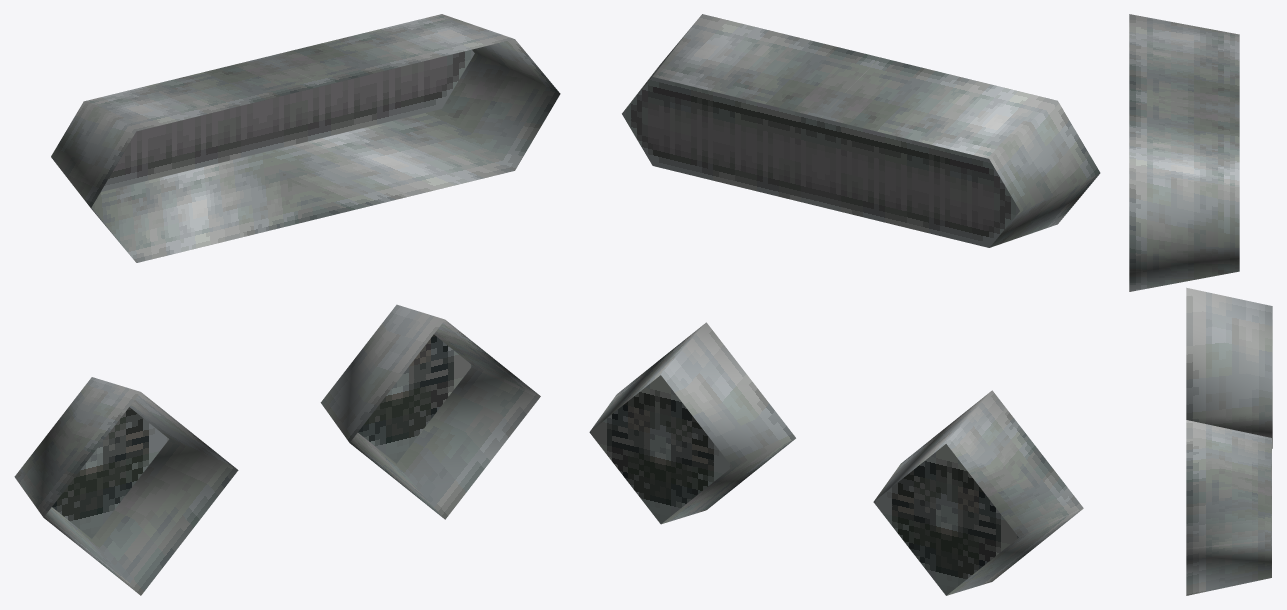
The model's file is kse_firespray_engine_s01_l3.fbx.
3 renders of one model, left to right at view 1: azimuth 30°, elevation 25°; view 2: azimuth 150°, elevation 25°; view 3: azimuth 270°, elevation 25°, orthographic. The views are drawn at different scales.
Visible parts, largest first — view 1: mesh_node; view 2: mesh_node; view 3: mesh_node.
Boxes of the visible parts, x1,y1,x2,y2 form: mesh_node: (14, 14, 560, 595); mesh_node: (589, 14, 1100, 595); mesh_node: (1129, 14, 1272, 595).
Size of the model in its own units: 6.86 by 6.56 by 1.95.
